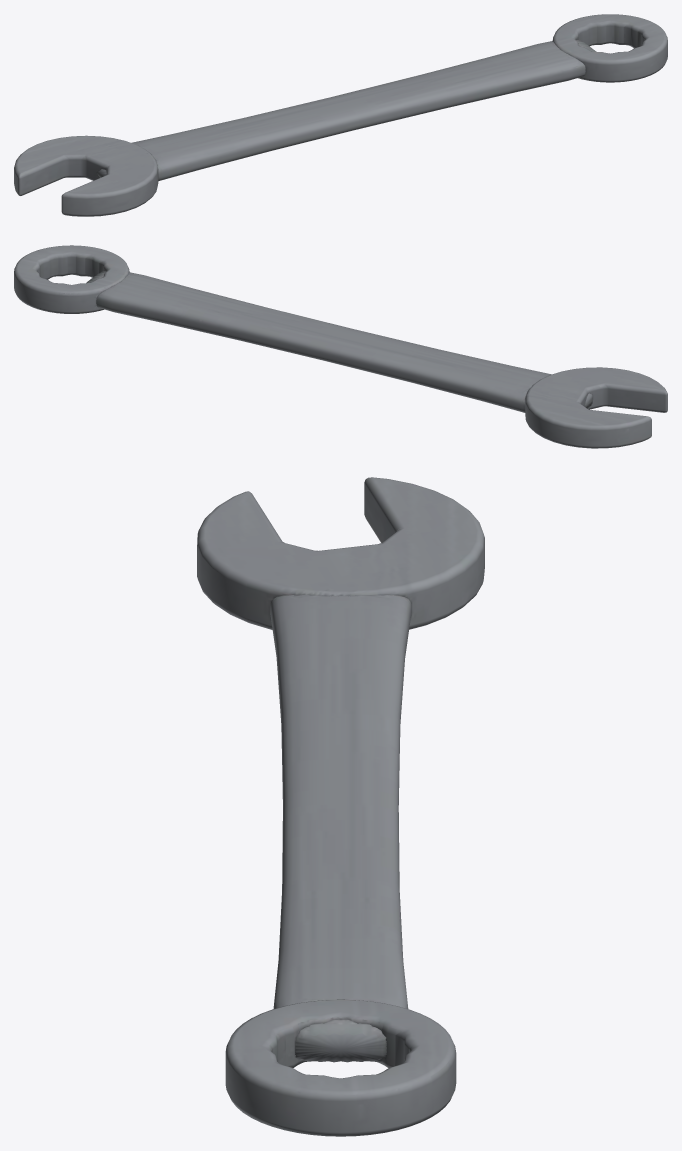
The model's file is large-combination.glb.
3 renders of one model, top to bottom at view 1: azimuth 30°, elevation 25°; view 2: azimuth 150°, elevation 25°; view 3: azimuth 270°, elevation 25°, orthographic. The views are drawn at different scales.
Visible parts, largest first — view 1: steel_satin; view 2: steel_satin; view 3: steel_satin.
Boxes of the visible parts, x1=… form: steel_satin: x1=14, y1=14, x2=667, y2=216; steel_satin: x1=14, y1=245, x2=667, y2=448; steel_satin: x1=197, y1=477, x2=484, y2=1136.
Size of the model in its own units: 0.3181 by 0.0109 by 0.0624.
Materials: 1 (1 with a texture image).
